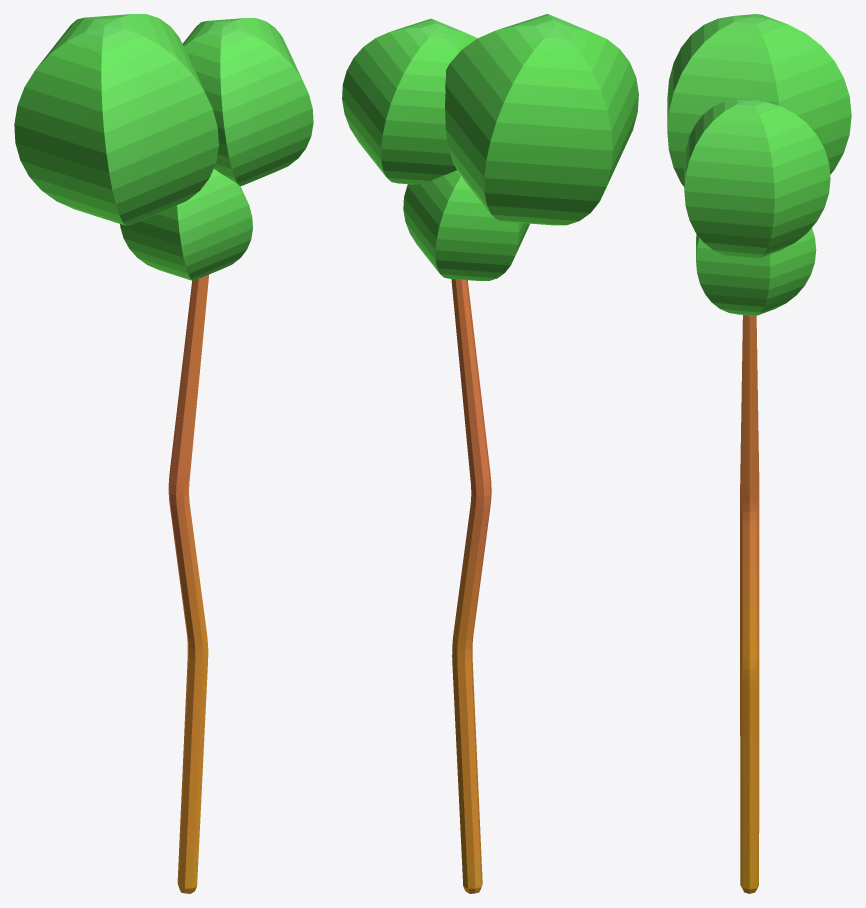
The model's file is Tree_6.fbx.
3 renders of one model, left to right at view 1: azimuth 30°, elevation 25°; view 2: azimuth 150°, elevation 25°; view 3: azimuth 270°, elevation 25°, orthographic. The views are drawn at different scales.
Parts seen in each view (by area): view 1: Tree_6; view 2: Tree_6; view 3: Tree_6.
Boxes of the visible parts, left/top/right/bottom form: Tree_6: left=14, top=14, right=313, bottom=893; Tree_6: left=342, top=14, right=638, bottom=893; Tree_6: left=667, top=14, right=851, bottom=893.
Bounding box in the file's own units: 139 × 431 × 85.84.
Materials: 1 (1 with a texture image).
